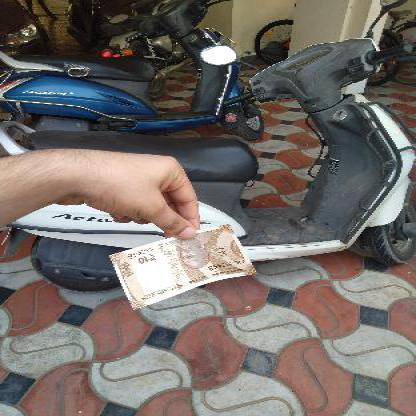New10Front: (107, 226, 252, 303)
